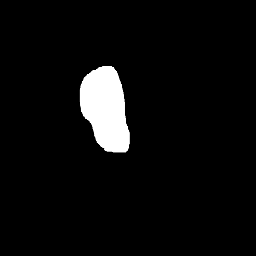mass: (82, 72, 129, 150)
